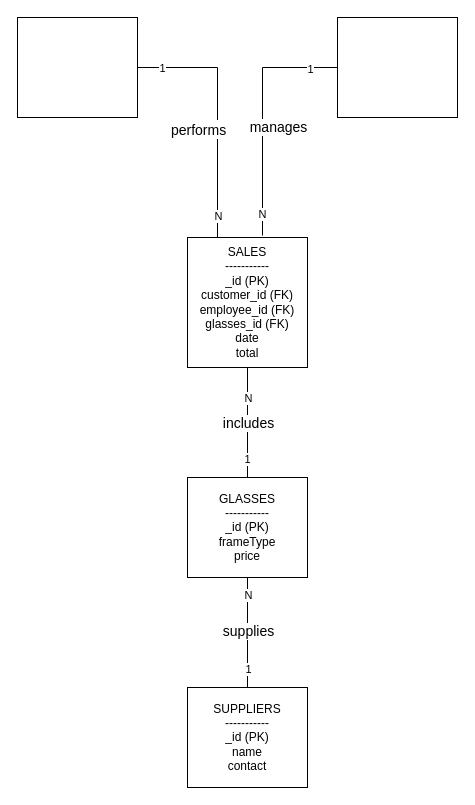
The diagram is 475 pixels wide and 805 high, and some of its shapes have lost their labels. Here are the shapes that lost their labels. From the top down, the centre of each, then its label:
the point at 77,67: CUSTOMERS ----------- _id (PK) name email phone
the point at 397,67: EMPLOYEES ----------- _id (PK) name role
